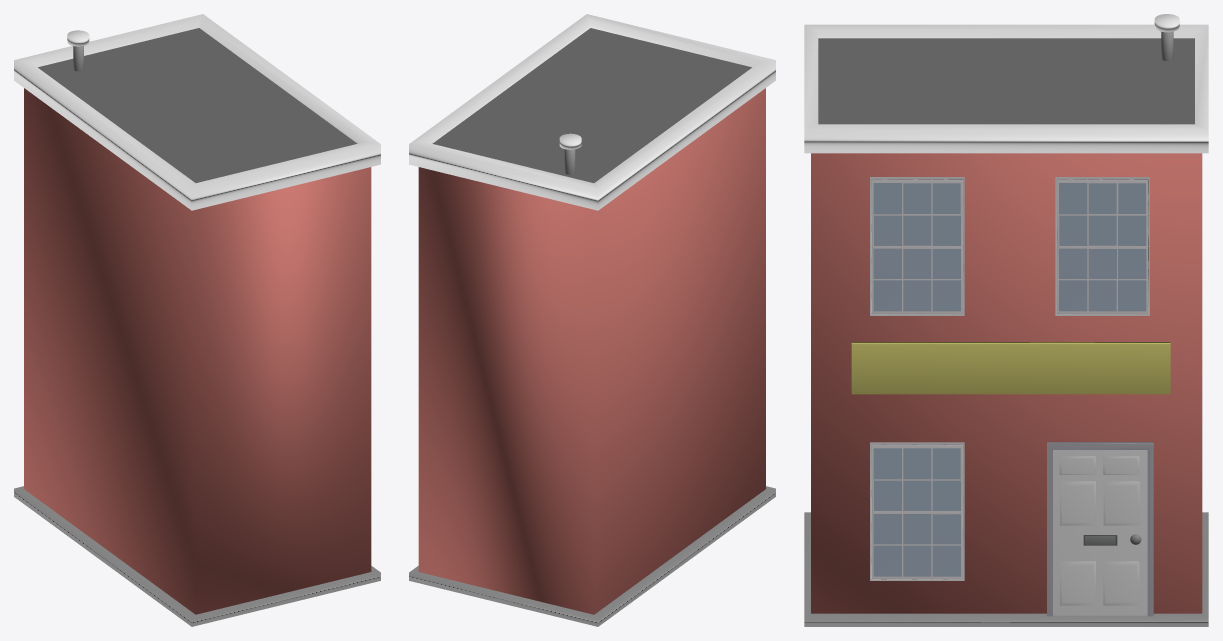
Rendered from townhouse1.fbx.
3 views of the same model, side by side, from view 1: azimuth 30°, elevation 25°; view 2: azimuth 150°, elevation 25°; view 3: azimuth 270°, elevation 25° (orthographic). The views are drawn at different scales.
Visible parts, largest first — view 1: Cube, Cube.003, Cube.001, Cube.002; view 2: Cube, Cube.003, Cube.001, Cube.002; view 3: Cube, Cube.003, Cube.001, Cube.015, Cube.014, Cube.011, Cube.010, Cube.009, Cube.012, Cube.013, Cube.007, Cube.005 (+2 smaller).
Boxes of the visible parts, x1,y1,x2,y2 form: Cube: (24,88,371,614); Cube.003: (38,28,357,182); Cube.001: (14,14,380,210); Cube.002: (14,486,380,626); Cube: (418,88,765,614); Cube.003: (432,28,751,182); Cube.001: (409,14,775,210); Cube.002: (409,486,775,626); Cube: (811,153,1202,613); Cube.003: (818,38,1194,124); Cube.001: (804,24,1208,153); Cube.015: (851,342,1170,394); Cube.014: (1055,177,1149,315); Cube.011: (870,177,964,315); Cube.010: (870,442,964,580); Cube.009: (873,448,960,576); Cube.012: (873,183,960,311); Cube.013: (1059,183,1146,311); Cube.007: (1053,450,1147,615); Cube.005: (1059,456,1139,605).
Bounding box in the file's own units: 165 × 388 × 269.
